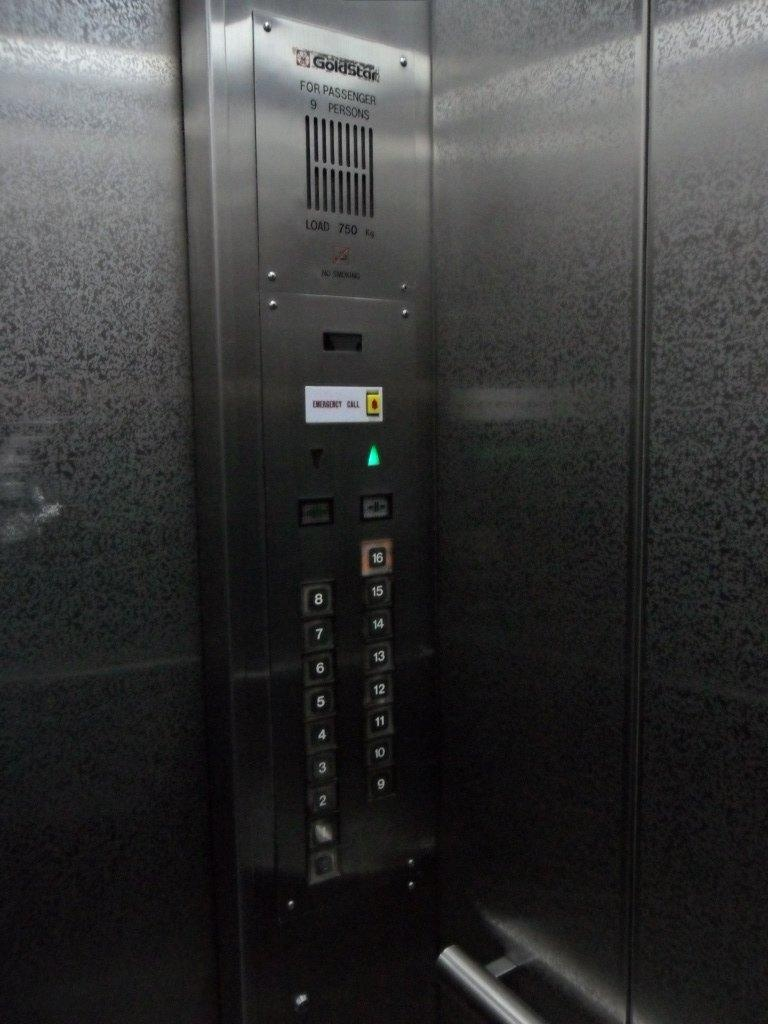1: (307, 813, 336, 849)
10: (366, 736, 393, 766)
11: (366, 706, 393, 737)
12: (364, 672, 393, 706)
13: (364, 641, 393, 671)
14: (362, 607, 394, 641)
15: (362, 576, 393, 606)
16: (360, 539, 393, 577)
2: (307, 781, 336, 814)
3: (308, 751, 337, 782)
4: (306, 718, 338, 753)
5: (304, 685, 336, 720)
6: (304, 651, 334, 686)
7: (303, 616, 334, 652)
8: (303, 581, 333, 617)
9: (366, 766, 394, 803)
alarm: (365, 389, 382, 418)
blur: (299, 492, 334, 527), (308, 846, 338, 885)
down: (308, 445, 328, 471)
keyhole: (287, 986, 318, 1019)
open: (361, 492, 394, 521)
up: (364, 441, 385, 470)
